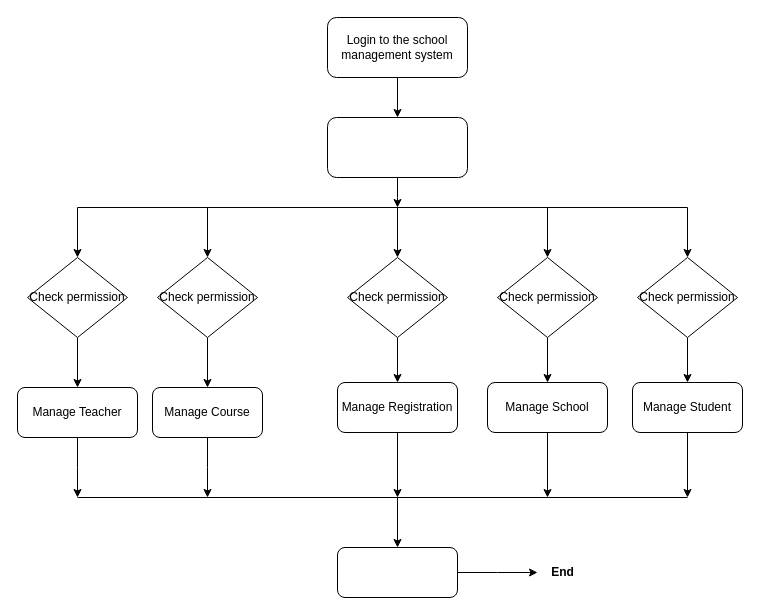
The diagram is 760 pixels wide and 615 high, and some of its shapes have lost their labels. The shapes that lost their labels are listed below. From the top down, each one's centre as x and y in pixels, then its label:
At pixel 397 147: "Check User level and prtmission".
At pixel 397 572: "Logout from the system".
